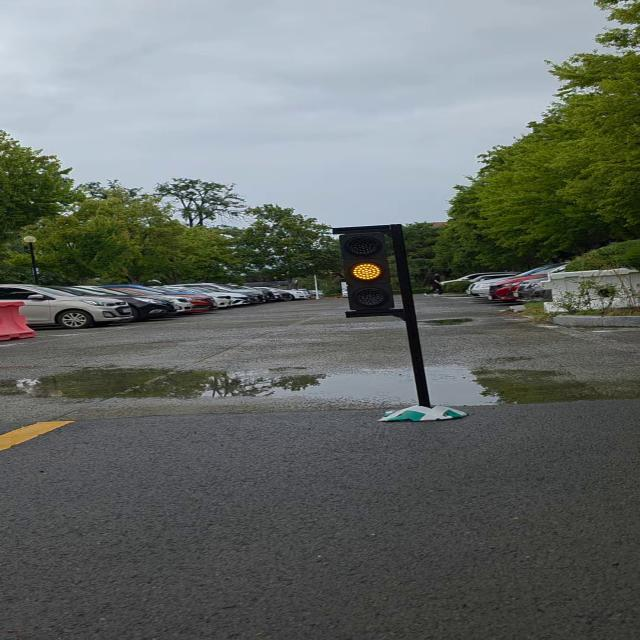yellow: (328, 222, 413, 328)
